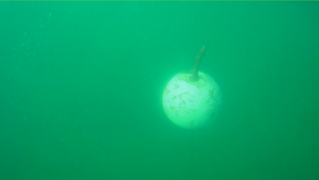buoy: (161, 69, 222, 129)
